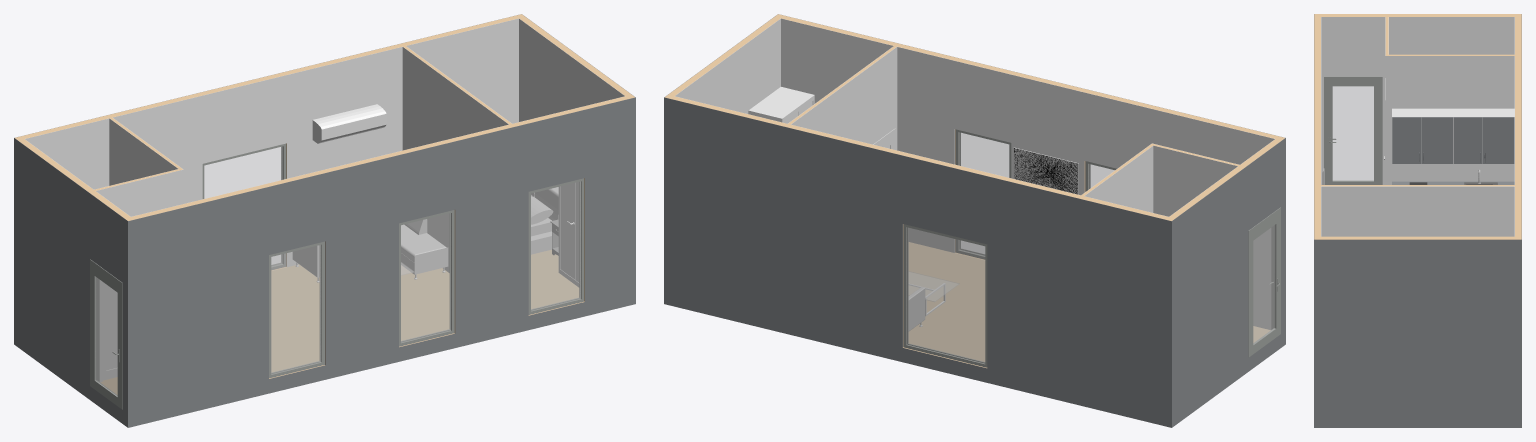
Rendered from Vita.viluckaite_(3,5x9,0)_R00.fbx.
3 renders of one model, left to right at view 1: azimuth 30°, elevation 25°; view 2: azimuth 150°, elevation 25°; view 3: azimuth 270°, elevation 25°, orthographic. The views are drawn at different scales.
Visible parts, largest first — view 1: IfcWall/Part:2528825, IfcWall/Part:2528830, IfcWall/Part:2528822, IfcWindow/Aluprof_MB-86-SI_E_Alu_Window-1sash-FIX_ENG_R-000. (×2), IfcSlab/Part:2528833, IfcWindow/Aluprof_MB-86-SI_E_Alu_Window-1sash-FIX_ENG_R-000, IfcWall/Part:2528812, IfcWall/Part:2528827, IfcDoor/Simple_vitree_-_03:900x2100 permatomos:2513057, IfcWindow/Aluprof_MB-86-SI_E_Alu_Window-1sash-FIX_ENG_R-0004, IfcWall/Part:2528826, IfcFurnishingElement/059_Enzo_Modular_Sof:059_Enzo_Modular_S (+9 smaller); view 2: IfcWall/Part:2528831, IfcWall/Part:2528824, IfcWall/Part:2528822, IfcWindow/Aluprof_MB-86-SI_E_Alu_Window-1sash-FIX_ENG_R-0004, IfcSlab/Part:2528833, IfcWall/Part:2528812, IfcWall/Part:2528827, IfcDoor/Simple_vitree_-_03:900x2100 permatomos:2513057, IfcWall/Part:2528815, IfcWindow/Aluprof_MB-86-SI_E_Alu_Window-1sash-FIX_ENG_R-000., IfcWall/Part:2528818, IfcWall/Part:2528832 (+7 smaller); view 3: IfcWall/Part:2528828, IfcWall/Part:2528813, IfcWall/Part:2528819, IfcWall/Part:2528821, IfcDoor/Simple_vitree_-_03:900x2100 permatomos:2513057, IfcFurnishingElement/Kitchen_Cabinets_Marbodal_Wall-cabinet, IfcFurnishingElement/Kitchen_Cabinets_Marbodal_Wall-cabinet-, IfcWall/Part:2528832, IfcWall/Part:2528826, IfcWall/Part:2528829, IfcWall/Part:2528823, IfcWall/Part:2528831 (+6 smaller).
Boxes of the visible parts, x1=… form: IfcWall/Part:2528825: x1=128, y1=97, x2=635, y2=427; IfcWall/Part:2528830: x1=25, y1=18, x2=518, y2=266; IfcWall/Part:2528822: x1=14, y1=138, x2=127, y2=427; IfcWindow/Aluprof_MB-86-SI_E_Alu_Window-1sash-FIX_ENG_R-000. (×2): x1=269, y1=210, x2=454, y2=378; IfcSlab/Part:2528833: x1=100, y1=249, x2=579, y2=394; IfcWindow/Aluprof_MB-86-SI_E_Alu_Window-1sash-FIX_ENG_R-000: x1=528, y1=178, x2=584, y2=314; IfcWall/Part:2528812: x1=402, y1=47, x2=508, y2=272; IfcWall/Part:2528827: x1=519, y1=18, x2=624, y2=121; IfcDoor/Simple_vitree_-_03:900x2100 permatomos:2513057: x1=90, y1=259, x2=122, y2=409; IfcWindow/Aluprof_MB-86-SI_E_Alu_Window-1sash-FIX_ENG_R-0004: x1=202, y1=143, x2=286, y2=269; IfcWall/Part:2528826: x1=125, y1=96, x2=628, y2=378; IfcFurnishingElement/059_Enzo_Modular_Sof:059_Enzo_Modular_S: x1=292, y1=219, x2=448, y2=282; IfcWall/Part:2528831: x1=664, y1=97, x2=1171, y2=427; IfcWall/Part:2528824: x1=781, y1=18, x2=1274, y2=329; IfcWall/Part:2528822: x1=1172, y1=138, x2=1285, y2=427; IfcWindow/Aluprof_MB-86-SI_E_Alu_Window-1sash-FIX_ENG_R-0004: x1=903, y1=224, x2=987, y2=367; IfcSlab/Part:2528833: x1=908, y1=242, x2=1270, y2=361; IfcWall/Part:2528812: x1=791, y1=47, x2=897, y2=150; IfcWall/Part:2528827: x1=675, y1=18, x2=780, y2=113; IfcDoor/Simple_vitree_-_03:900x2100 permatomos:2513057: x1=1248, y1=207, x2=1280, y2=357; IfcWall/Part:2528815: x1=1153, y1=145, x2=1237, y2=216; IfcWindow/Aluprof_MB-86-SI_E_Alu_Window-1sash-FIX_ENG_R-000.: x1=955, y1=129, x2=1011, y2=259; IfcWall/Part:2528818: x1=1084, y1=146, x2=1153, y2=212; IfcWall/Part:2528832: x1=665, y1=95, x2=1174, y2=367; IfcWall/Part:2528828: x1=1314, y1=239, x2=1521, y2=427; IfcWall/Part:2528813: x1=1321, y1=186, x2=1514, y2=236; IfcWall/Part:2528819: x1=1385, y1=56, x2=1514, y2=184; IfcWall/Part:2528821: x1=1321, y1=17, x2=1514, y2=184; IfcDoor/Simple_vitree_-_03:900x2100 permatomos:2513057: x1=1324, y1=76, x2=1382, y2=184; IfcFurnishingElement/Kitchen_Cabinets_Marbodal_Wall-cabinet: x1=1453, y1=108, x2=1514, y2=163; IfcFurnishingElement/Kitchen_Cabinets_Marbodal_Wall-cabinet-: x1=1392, y1=108, x2=1453, y2=163; IfcWall/Part:2528832: x1=1515, y1=14, x2=1521, y2=239; IfcWall/Part:2528826: x1=1314, y1=14, x2=1320, y2=236; IfcWall/Part:2528829: x1=1314, y1=236, x2=1514, y2=239; IfcWall/Part:2528823: x1=1321, y1=14, x2=1514, y2=16; IfcWall/Part:2528831: x1=1521, y1=14, x2=1521, y2=427.
Bounding box in the file's own units: 906 × 350 × 350.
